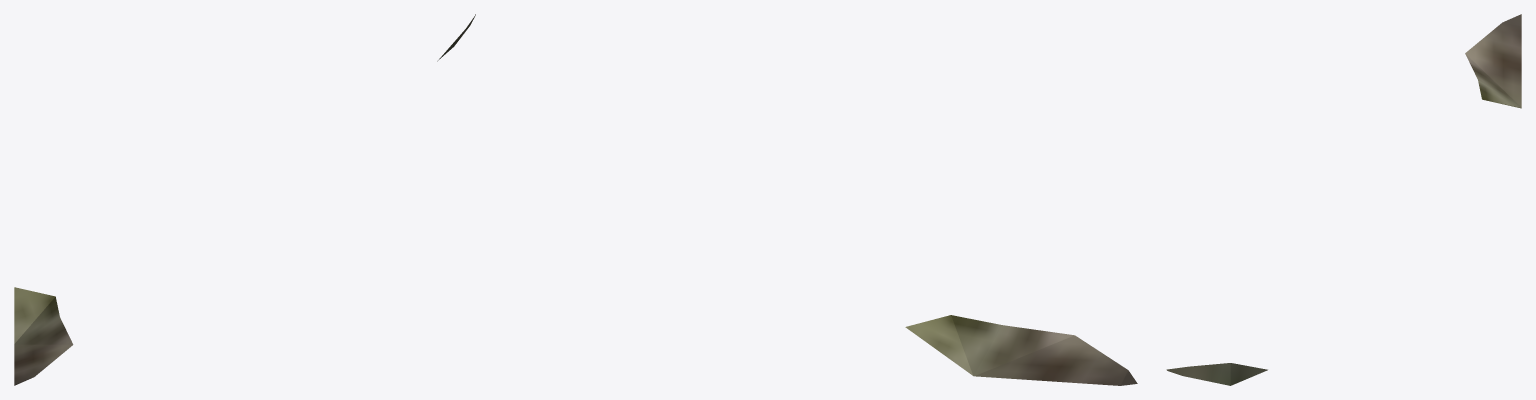
3 renders of one model, left to right at view 1: azimuth 90°, elevation 25°; view 2: azimuth 150°, elevation 25°; view 3: azimuth 270°, elevation 25°, orthographic. The views are drawn at different scales.
Bounding box in the file's own units: 1.04 × 0.0368 × 0.4381.
Materials: 1 (1 with a texture image).
